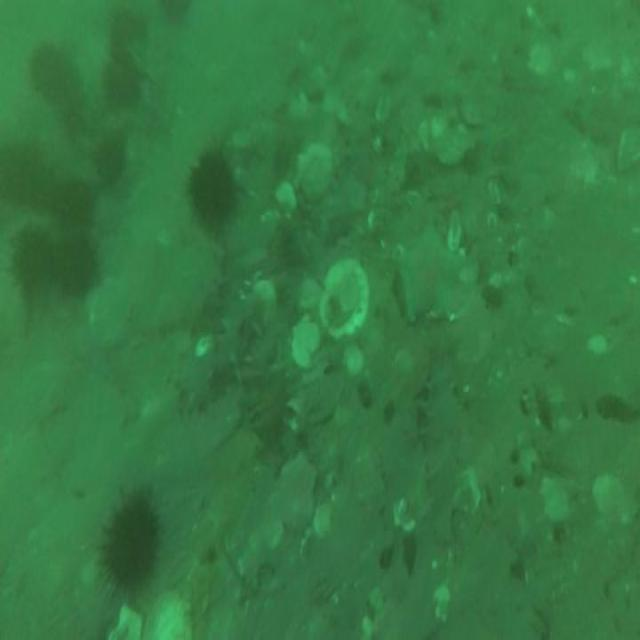echinus: (104, 496, 157, 582), (190, 154, 237, 232), (51, 234, 96, 300), (10, 223, 50, 289), (51, 183, 95, 234), (30, 46, 70, 99), (103, 55, 140, 111), (93, 134, 130, 188)
holothurian: (182, 300, 254, 414), (418, 362, 461, 547)
scallop: (316, 259, 372, 341)
starfish: (397, 229, 464, 324)
